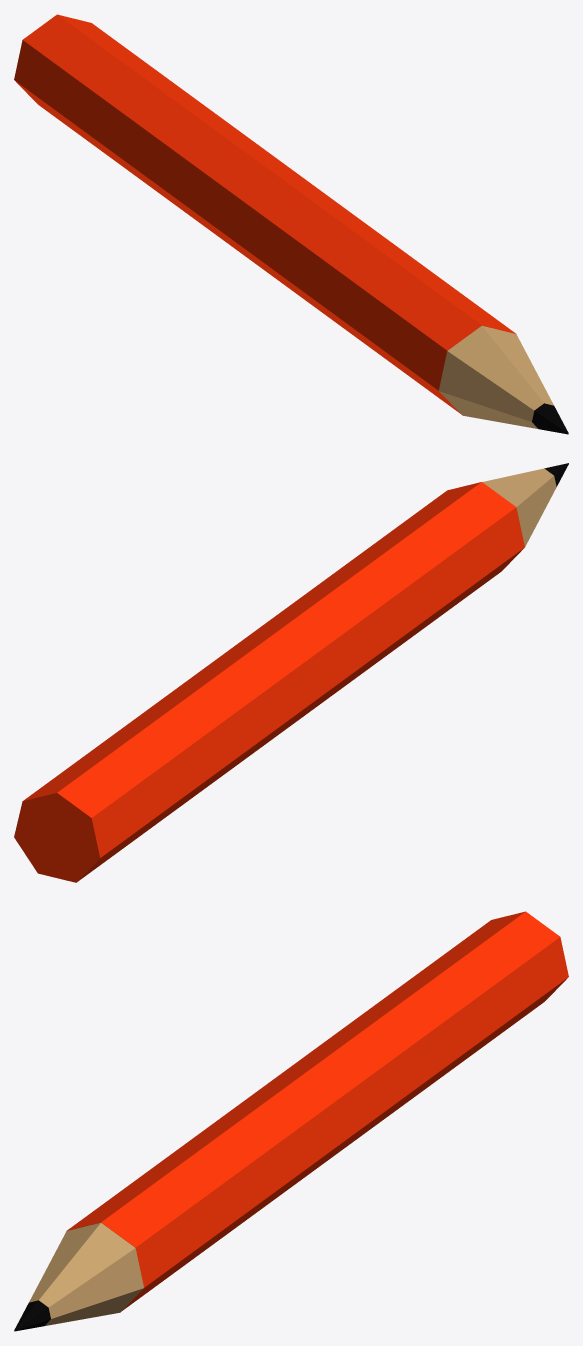
The model's file is Kalem 1.fbx.
The picture shows the model from 3 angles, top to bottom: view 1: azimuth 30°, elevation 25°; view 2: azimuth 150°, elevation 25°; view 3: azimuth 330°, elevation 25°; orthographic projection.
Parts seen in each view (by area): view 1: Circle; view 2: Circle; view 3: Circle.
Part boxes in pixels (x1=…): Circle: x1=14, y1=14, x2=568, y2=434; Circle: x1=14, y1=463, x2=568, y2=882; Circle: x1=14, y1=911, x2=568, y2=1331.
Size of the model in its own units: 144 by 1561 by 152.
